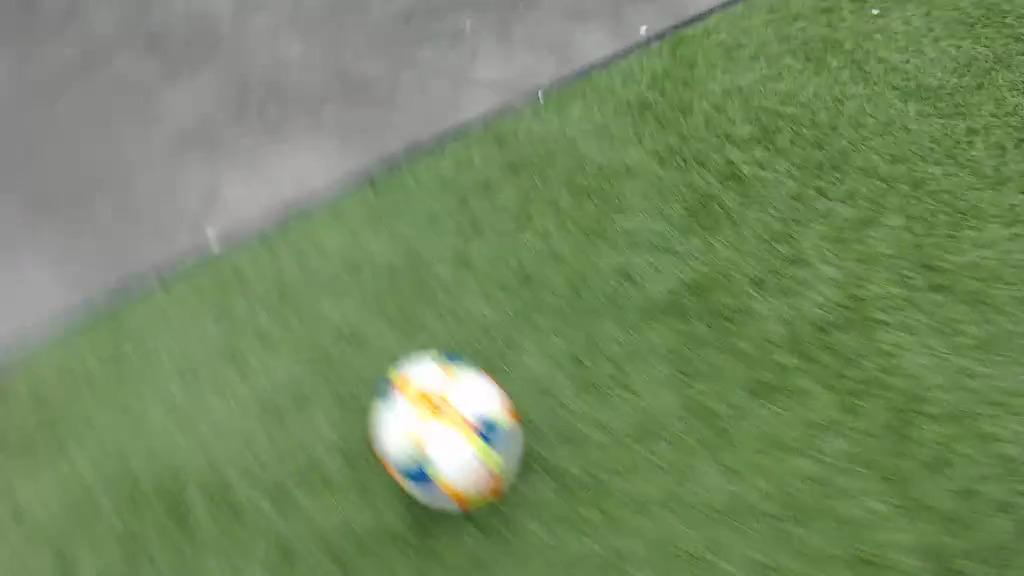ball: (370, 350, 523, 511)
